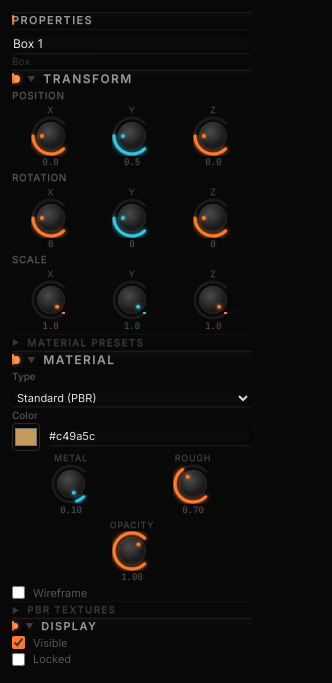
PropertiesPanel Accessibility › material section toggles aria-expanded on click
Click the button "▶ Material": (132, 360) x1=12 y1=350 x2=252 y2=368
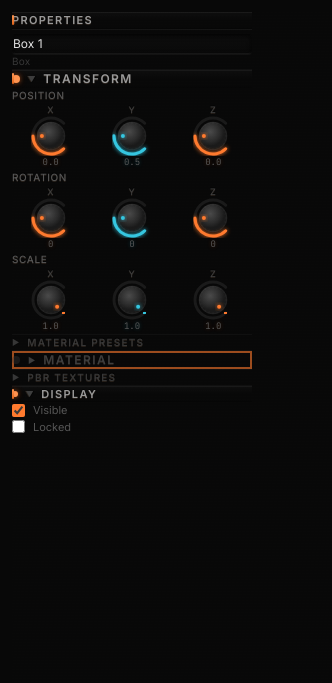
Expected: the button "▶ Material" is collapsed, x1=12 y1=350 x2=252 y2=368
